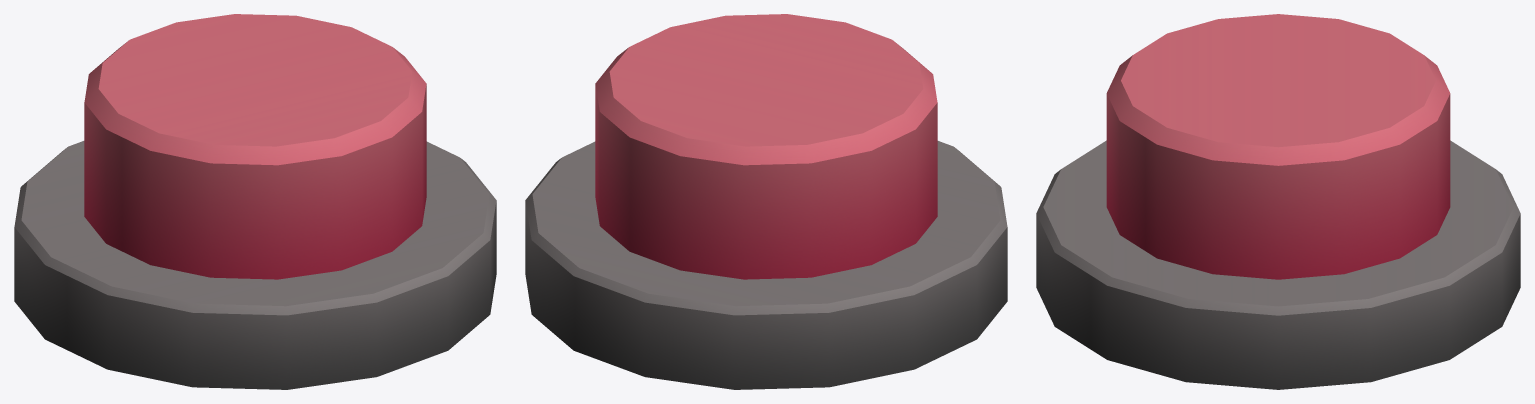
Rendered from deli_roundLarge.fbx.
The picture shows the model from 3 angles, left to right: view 1: azimuth 30°, elevation 25°; view 2: azimuth 150°, elevation 25°; view 3: azimuth 270°, elevation 25°; orthographic projection.
Visible parts, largest first — view 1: deli_roundLarge; view 2: deli_roundLarge; view 3: deli_roundLarge.
Boxes of the visible parts, <box> form: deli_roundLarge: <box>14,14,496,389</box>; deli_roundLarge: <box>525,14,1007,389</box>; deli_roundLarge: <box>1036,14,1520,389</box>.
Size of the model in its own units: 1073 by 506 by 1073.
Materials: 1 (1 with a texture image).
